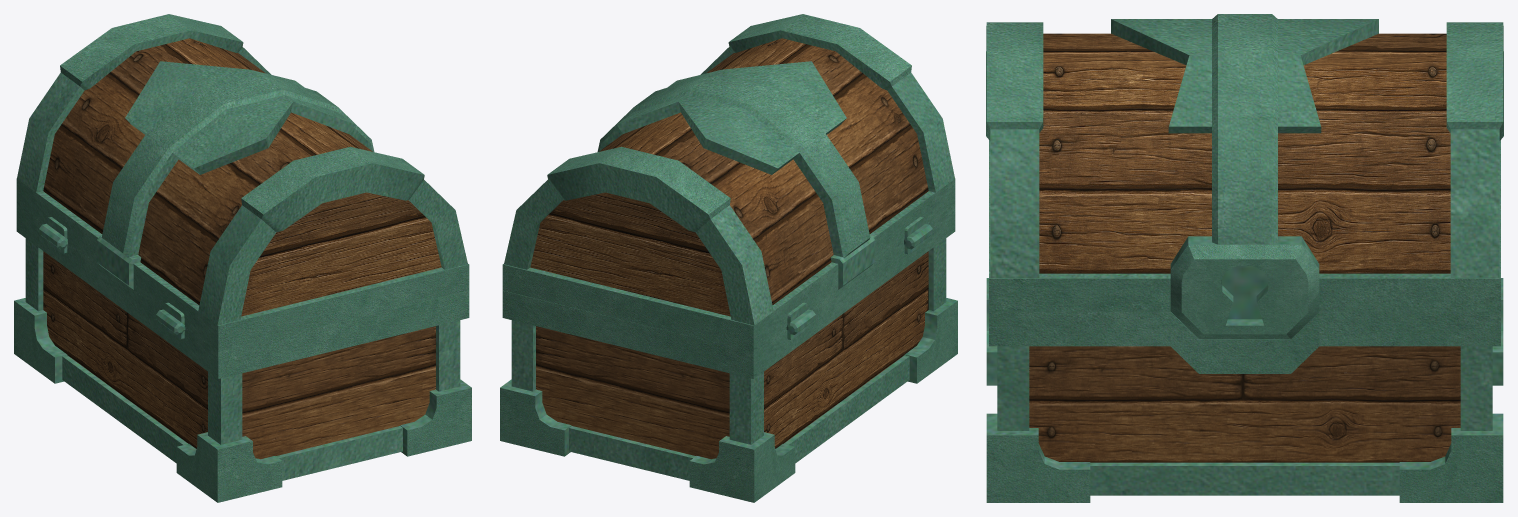
The model's file is Treasure_Chest_Drop.fbx.
3 renders of one model, left to right at view 1: azimuth 30°, elevation 25°; view 2: azimuth 150°, elevation 25°; view 3: azimuth 270°, elevation 25°, orthographic. The views are drawn at different scales.
Parts seen in each view (by area): view 1: Treasure_Chest_Drop.001, Treasure_Chest_Drop.000; view 2: Treasure_Chest_Drop.001, Treasure_Chest_Drop.000; view 3: Treasure_Chest_Drop.001, Treasure_Chest_Drop.000.
Boxes of the visible parts, left/top/right/bottom form: Treasure_Chest_Drop.001: left=16, top=14, right=469, bottom=351; Treasure_Chest_Drop.000: left=14, top=204, right=471, bottom=502; Treasure_Chest_Drop.001: left=502, top=14, right=955, bottom=351; Treasure_Chest_Drop.000: left=500, top=204, right=957, bottom=502; Treasure_Chest_Drop.001: left=986, top=14, right=1503, bottom=339; Treasure_Chest_Drop.000: left=986, top=278, right=1503, bottom=502.
Bounding box in the file's own units: 65.52 × 71.63 × 85.93.
